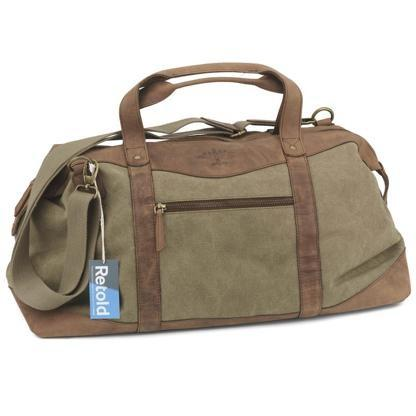not trash: (9, 59, 406, 340)
